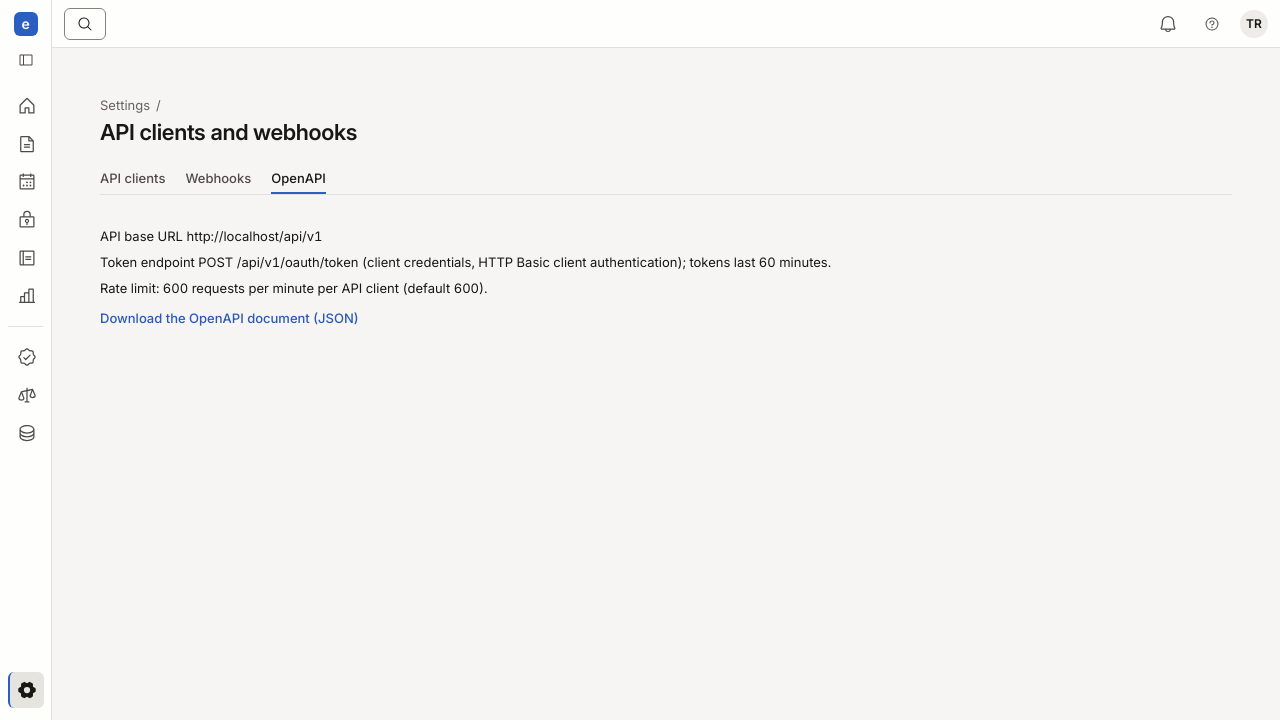
Test case: SF-16:developer and REQ-PLT-033, REQ-OPS-016 › the OpenAPI tab shows the base URL, the token endpoint, the rate limit and the document link; the empty webhooks state reads No webhook endpoints
This screenshot has width=1280, height=720.
Expected: the list item "Token endpoint POST /api/v1/oauth/token (client credentials, HTTP Basic client authentication); tokens last 60 minutes." is shown, top-left (100, 254), bottom-right (831, 270)
Expected: the list item "Rate limit: 600 requests per minute per API client (default 600)." is shown, top-left (100, 280), bottom-right (488, 296)
Click the tab "Webhooks". click: (218, 178)
box: top-left (185, 162), bottom-right (251, 194)
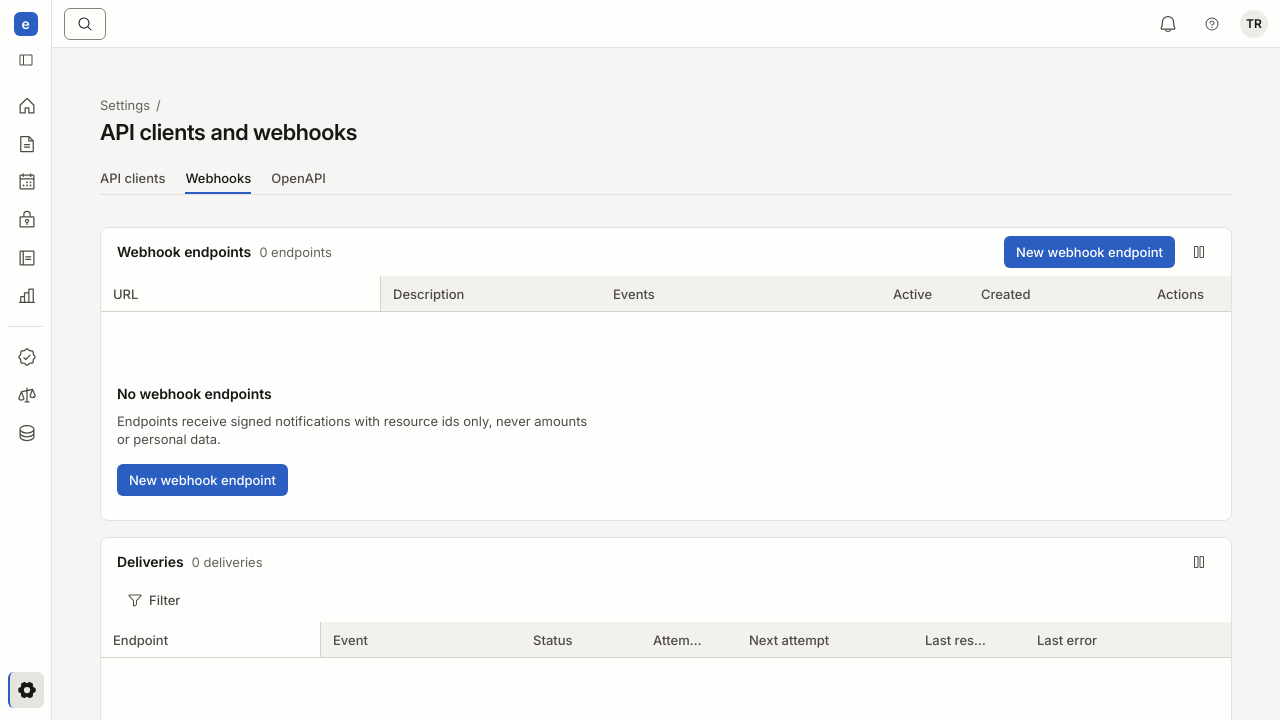
Result: the heading "No webhook endpoints" is shown at top-left (117, 384), bottom-right (272, 404)
Result: the text "Endpoints receive signed notifications with resource ids only, never amounts or personal data." is shown at top-left (117, 413), bottom-right (587, 447)
